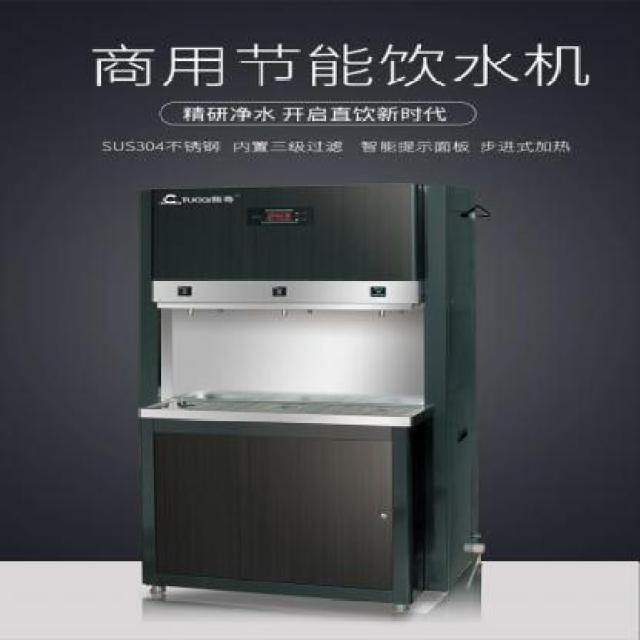cooler: (139, 180, 503, 619)
